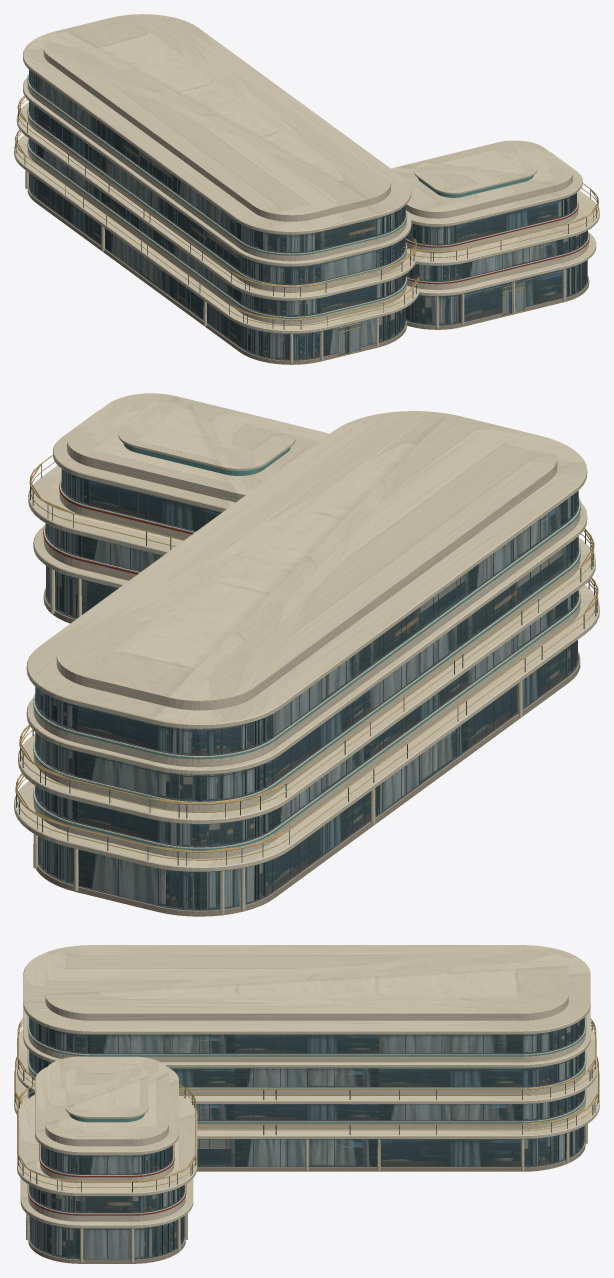
File: CourtWest.fbx
The picture shows the model from 3 angles, top to bottom: view 1: azimuth 30°, elevation 25°; view 2: azimuth 150°, elevation 25°; view 3: azimuth 270°, elevation 25°; orthographic projection. The views are drawn at different scales.
Visible parts, largest first — view 1: CourtWest Close, CourtWest Horizon, CourtWest Street; view 2: CourtWest Close, CourtWest Horizon, CourtWest Street; view 3: CourtWest Close, CourtWest Horizon, CourtWest Street.
Part boxes in pixels (x1,y1,x2,y2): CourtWest Close: (14,14,599,364); CourtWest Horizon: (15,14,598,360); CourtWest Street: (14,14,599,364); CourtWest Close: (14,393,599,916); CourtWest Horizon: (15,394,598,909); CourtWest Street: (14,393,599,916); CourtWest Close: (14,945,599,1263); CourtWest Horizon: (14,945,598,1259); CourtWest Street: (14,945,598,1263).
Size of the model in its own units: 3612 by 1373 by 4836.
